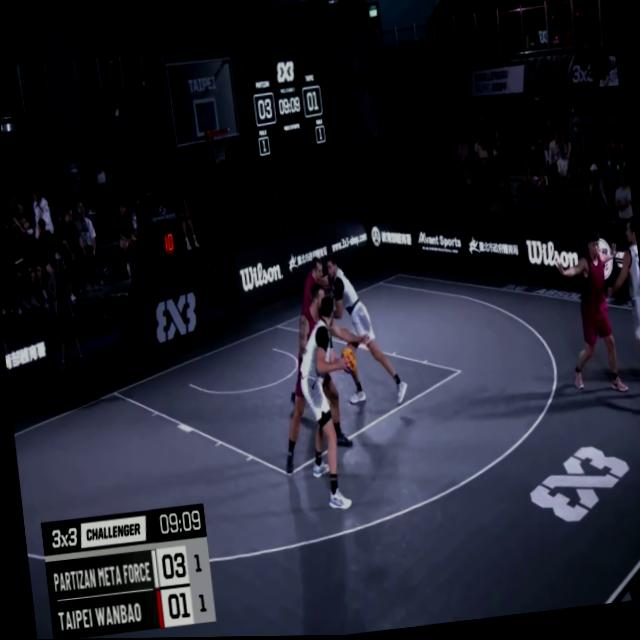ball: (338, 344, 358, 375)
hoop: (202, 122, 231, 165)
player: (290, 293, 360, 515), (271, 252, 346, 453), (547, 225, 631, 404), (320, 250, 408, 414), (267, 284, 344, 469), (599, 220, 640, 411)
